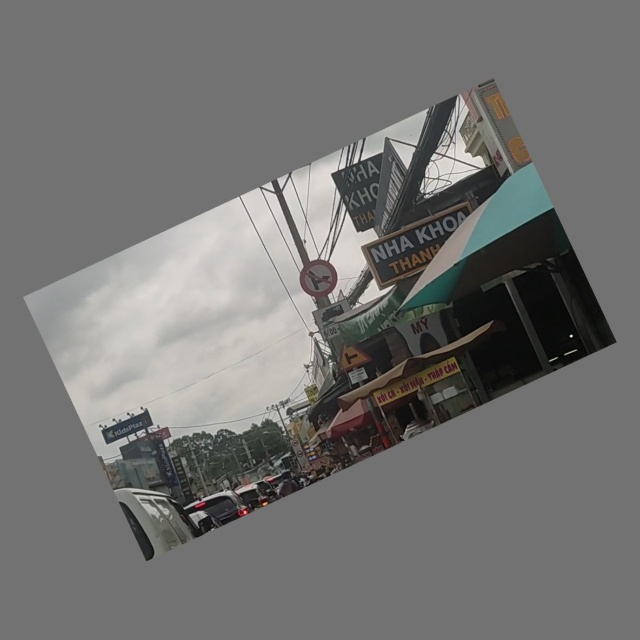P.139: (293, 253, 344, 304)
S.505a*Xe tai: (311, 297, 355, 332)
W.205b: (327, 338, 374, 377)
